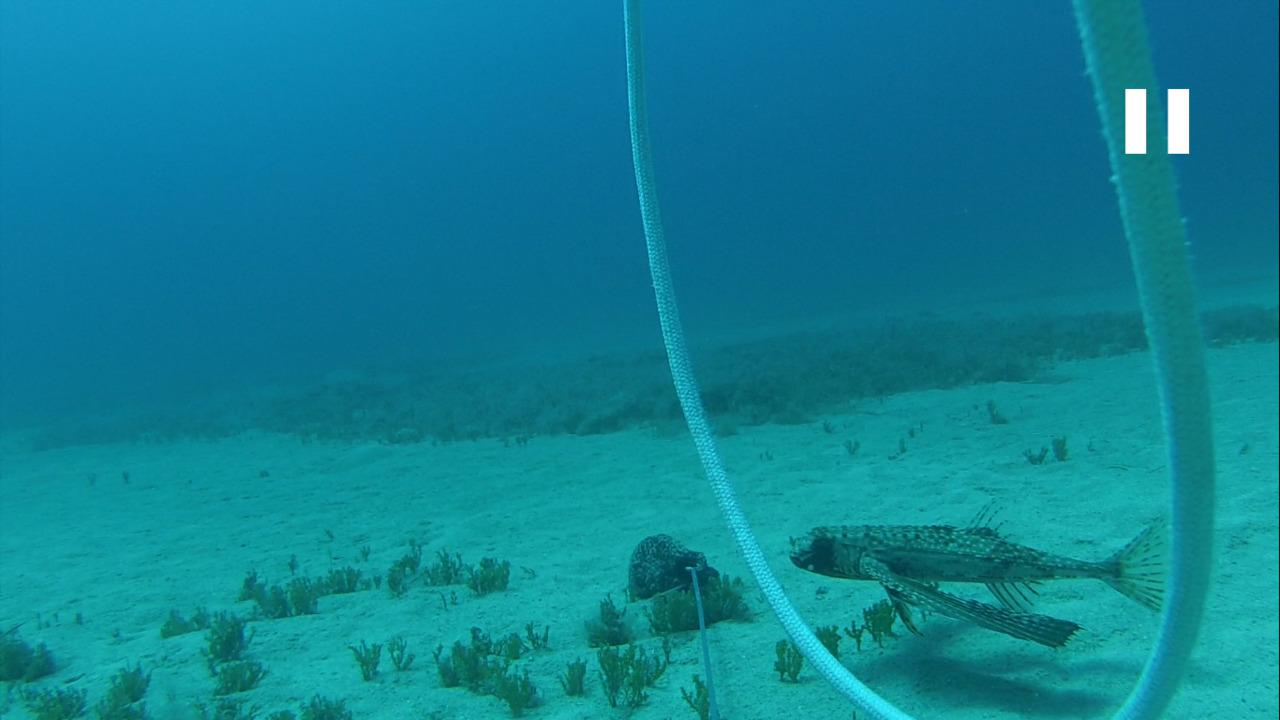dactylopterus: (787, 502, 1174, 645)
